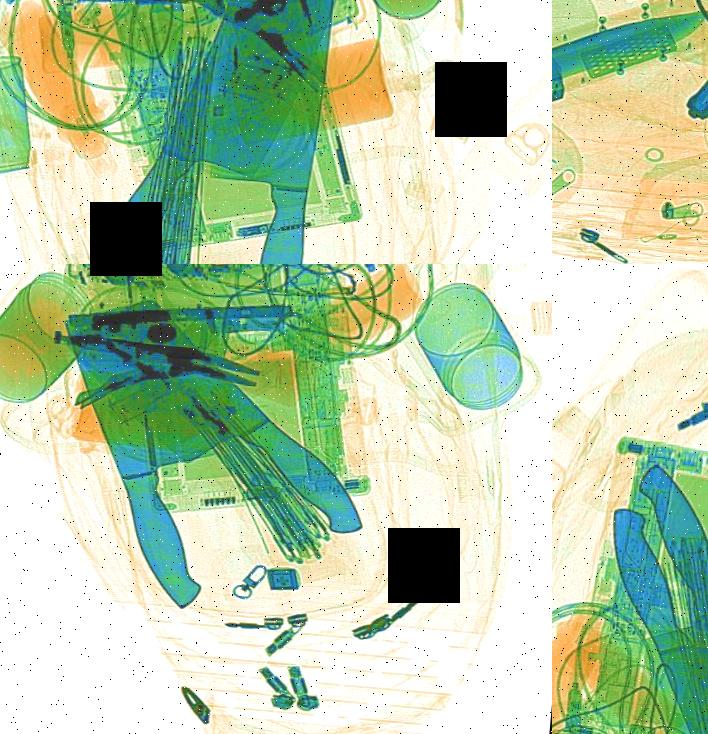Gun: (625, 0, 708, 128)
Knife: (38, 267, 390, 588), (35, 281, 286, 619), (78, 0, 348, 264), (172, 0, 346, 264), (552, 442, 708, 734), (569, 464, 708, 734), (552, 0, 708, 152)
